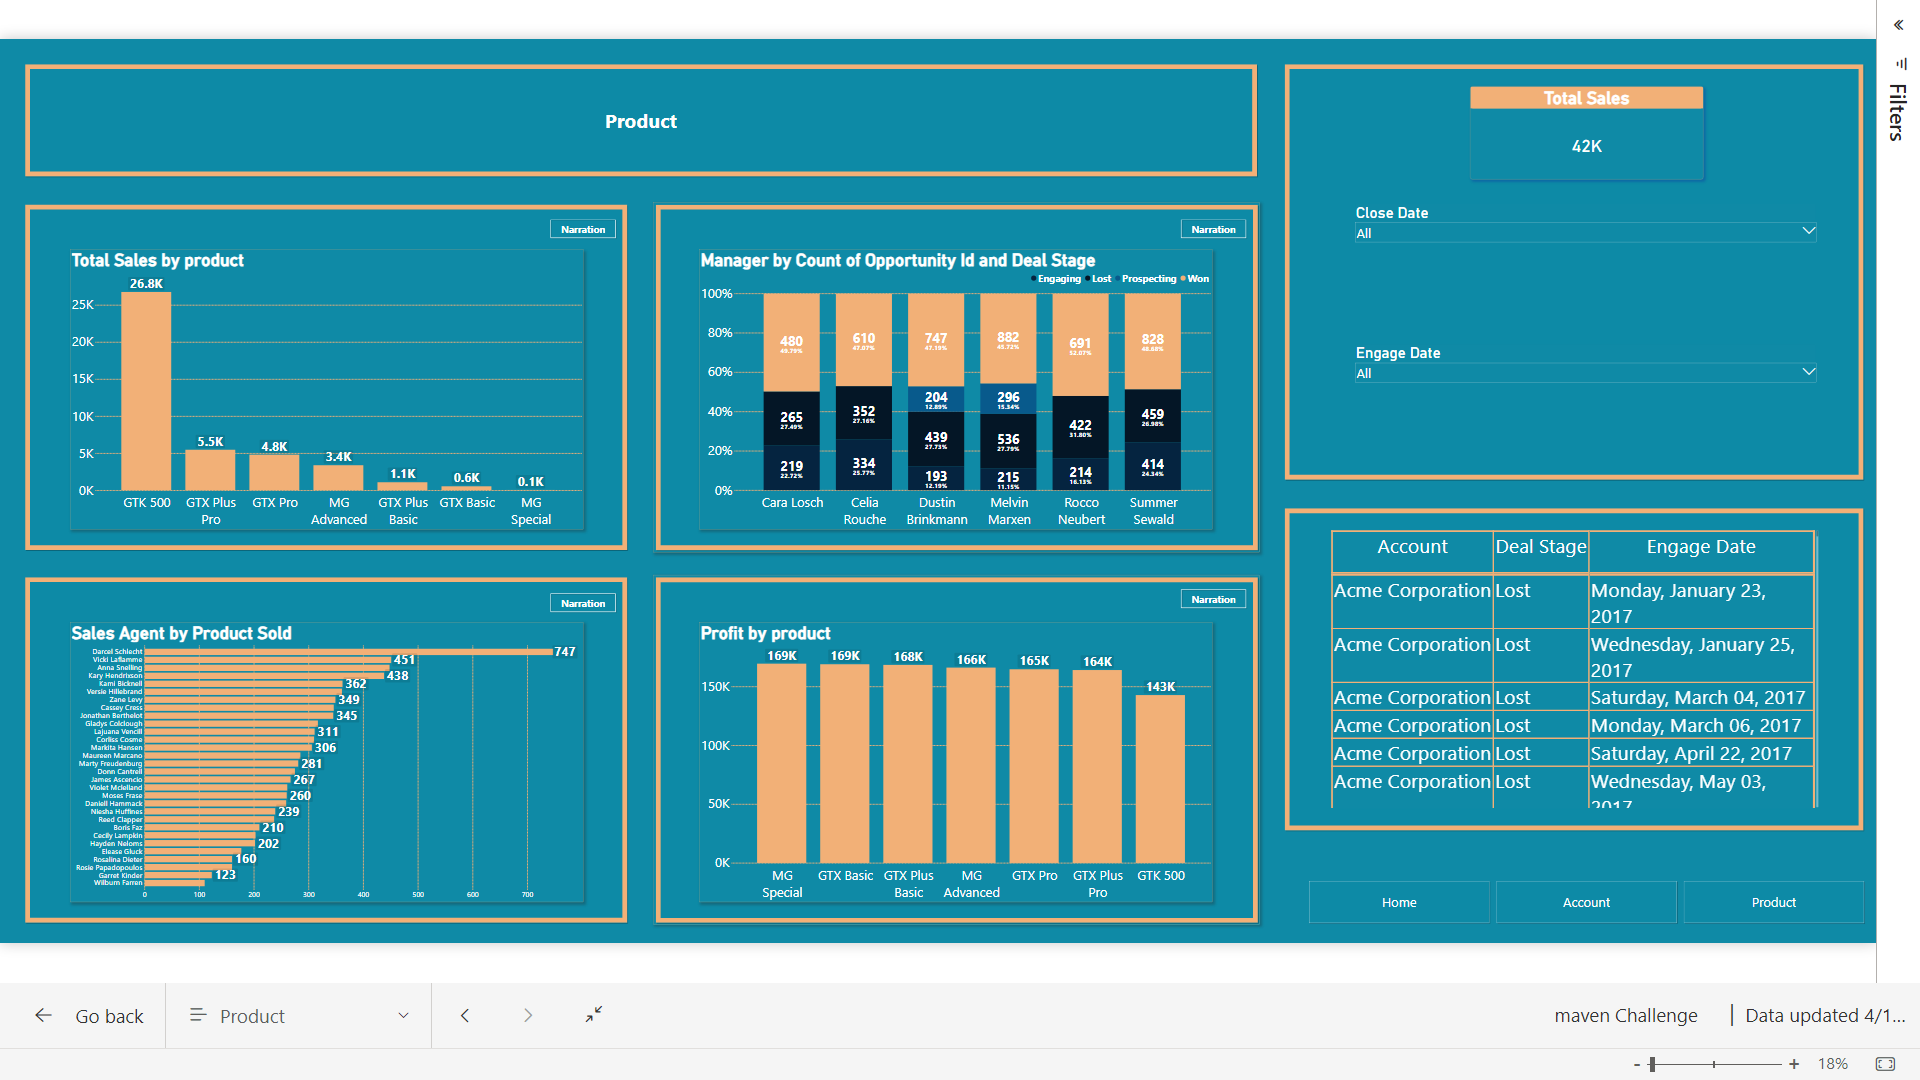

Layout of this report page (visuals, bound fields, positions):
{"tool":"powerbi","page":{"name":"Product","canvas":[7720,3720],"ordinal":2},"visuals":[{"type":"shape","box":[96,672,2496,1440],"z":0},{"type":"shape","box":[5280,96,2400,1728],"z":1000},{"type":"card","title":"Total Sales","fields":{"Values":["Sum(products.sales_price)"]},"box":[6048,192,960,384],"z":2000},{"type":"clusteredColumnChart","fields":{"Category":["products.product"],"Y":["Sum(products.sales_price)"]},"box":[288,864,2112,1152],"z":3000},{"type":"shape","box":[2688,672,2496,1440],"z":6000},{"type":"actionButton","title":"Sales Button","box":[2256,736,288,96],"z":7000},{"type":"shape","box":[96,2208,2496,1440],"z":8000},{"type":"shape","box":[2688,2208,2496,1440],"z":9000},{"type":"hundredPercentStackedColumnChart","title":"Manager by Count of Opportunity Id and Deal Stage","fields":{"Category":["sales_teams.manager"],"Series":["sales_pipeline.deal_stage"],"Y":["CountNonNull(sales_pipeline.opportunity_id)"]},"box":[2880,864,2112,1152],"z":10000},{"type":"clusteredBarChart","title":"Sales Agent by Product Sold","fields":{"Category":["sales_pipeline.sales_agent"],"Y":["CountNonNull(sales_pipeline.product)"]},"box":[288,2400,2112,1152],"z":11000},{"type":"clusteredColumnChart","fields":{"Category":["products.product"],"Y":["sales_teams.Profit"]},"box":[2880,2400,2112,1152],"z":12000},{"type":"slicer","fields":{"Values":["sales_pipeline.close_date"]},"box":[5568,672,1920,384],"z":13000},{"type":"slicer","fields":{"Values":["sales_pipeline.engage_date"]},"box":[5568,1248,1920,384],"z":14000},{"type":"shape","box":[5280,1920,2400,1344],"z":15000},{"type":"tableEx","fields":{"Values":["sales_pipeline.account","sales_pipeline.deal_stage","sales_pipeline.engage_date"]},"box":[5472,2016,2016,1152],"z":16000},{"type":"shape","box":[96,96,5088,480],"z":17000},{"type":"actionButton","title":"Manager Button","box":[4848,736,288,96],"z":20000},{"type":"actionButton","title":"vis Button","box":[2256,2272,288,96],"z":23000},{"type":"textbox","title":"mis Text box","box":[2880,2496,2112,1056],"z":24000},{"type":"image","title":"mis Image","box":[4512,3360,480,192],"z":25000},{"type":"actionButton","title":"mis Button","box":[4848,2256,288,96],"z":26000},{"type":"pageNavigator","box":[5376,3456,2304,192],"z":26001}]}

Visuals, with their boxes in screenshot pixels (x1, y1, x2, y2):
shape: box=[14, 205, 626, 558]
shape: box=[1285, 64, 1874, 487]
"Total Sales" card: box=[1473, 87, 1709, 181]
clusteredColumnChart - products.product x Sum(products.sales_price): box=[61, 252, 579, 534]
shape: box=[649, 205, 1261, 558]
"Sales Button" actionButton: box=[543, 221, 614, 244]
shape: box=[14, 582, 626, 935]
shape: box=[649, 582, 1261, 935]
"Manager by Count of Opportunity Id and Deal Stage" hundredPercentStackedColumnChart: box=[696, 252, 1214, 534]
"Sales Agent by Product Sold" clusteredBarChart: box=[61, 629, 579, 911]
clusteredColumnChart - products.product x sales_teams.Profit: box=[696, 629, 1214, 911]
slicer - sales_pipeline.close_date: box=[1356, 205, 1827, 299]
slicer - sales_pipeline.engage_date: box=[1356, 346, 1827, 440]
shape: box=[1285, 511, 1874, 841]
tableEx - sales_pipeline.account x sales_pipeline.deal_stage: box=[1332, 534, 1827, 817]
shape: box=[14, 64, 1261, 181]
"Manager Button" actionButton: box=[1179, 221, 1250, 244]
"vis Button" actionButton: box=[543, 597, 614, 621]
"mis Text box" textbox: box=[696, 652, 1214, 911]
"mis Image" image: box=[1097, 864, 1214, 911]
"mis Button" actionButton: box=[1179, 593, 1250, 617]
pageNavigator: box=[1309, 888, 1874, 935]
